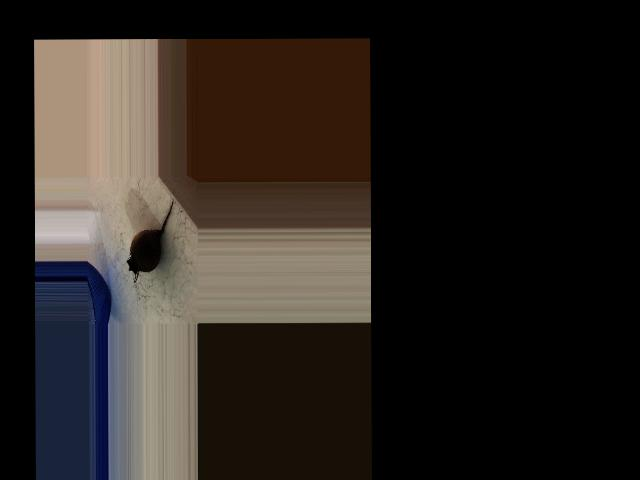beet: (127, 198, 174, 282)
